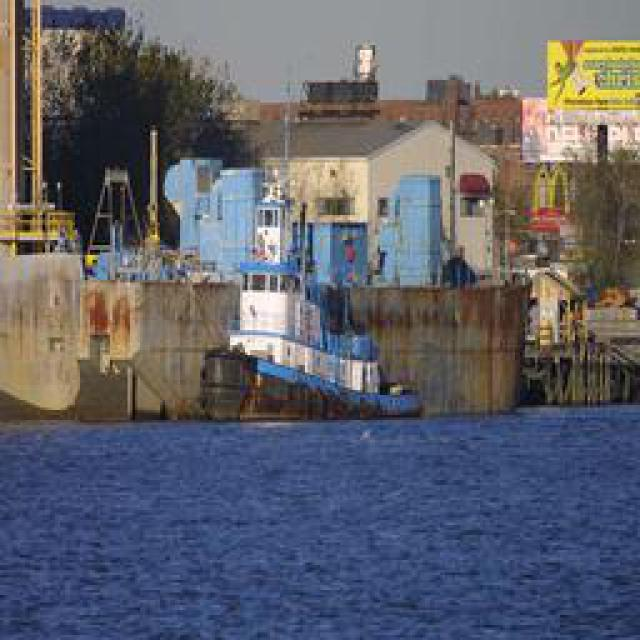Ship: (200, 168, 436, 430)
